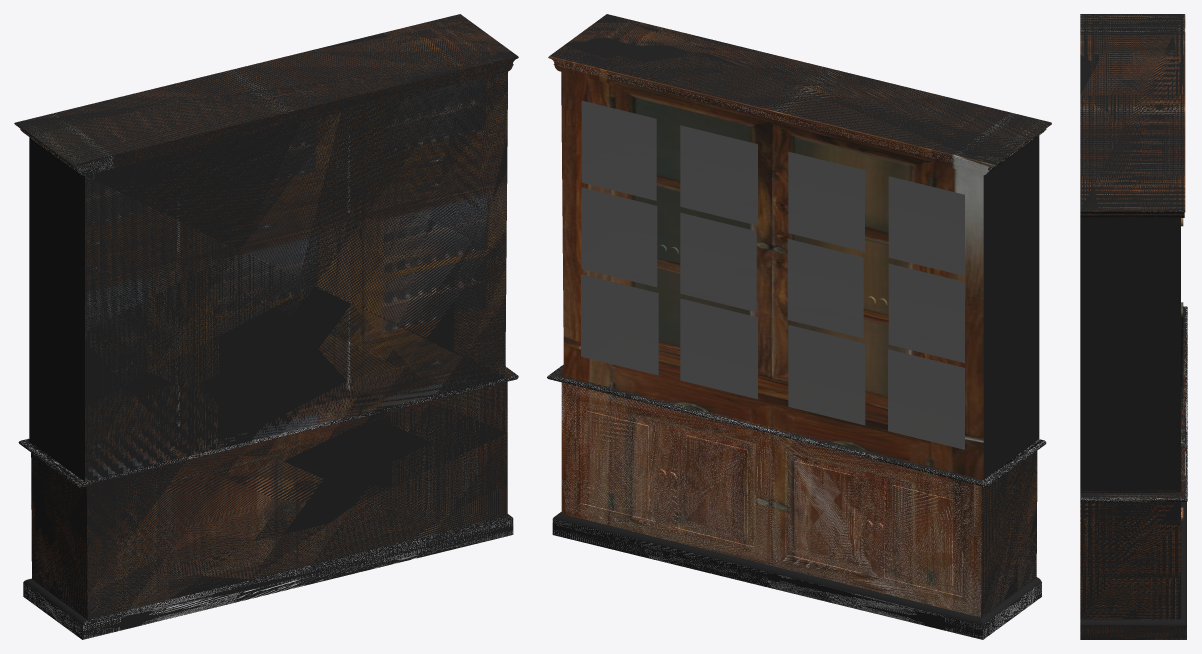
3 renders of one model, left to right at view 1: azimuth 30°, elevation 25°; view 2: azimuth 150°, elevation 25°; view 3: azimuth 270°, elevation 25°, orthographic. The views are drawn at different scales.
Visible parts, largest first — view 1: mesh3_mesh3-geometry; view 2: mesh3_mesh3-geometry; view 3: mesh3_mesh3-geometry.
Part boxes in pixels (box(x1,y1,x2,y2)): mesh3_mesh3-geometry: box(14, 14, 518, 639); mesh3_mesh3-geometry: box(547, 14, 1051, 639); mesh3_mesh3-geometry: box(1080, 14, 1187, 639).
Bounding box in the file's own units: 0.6889 × 0.7043 × 0.1587.
